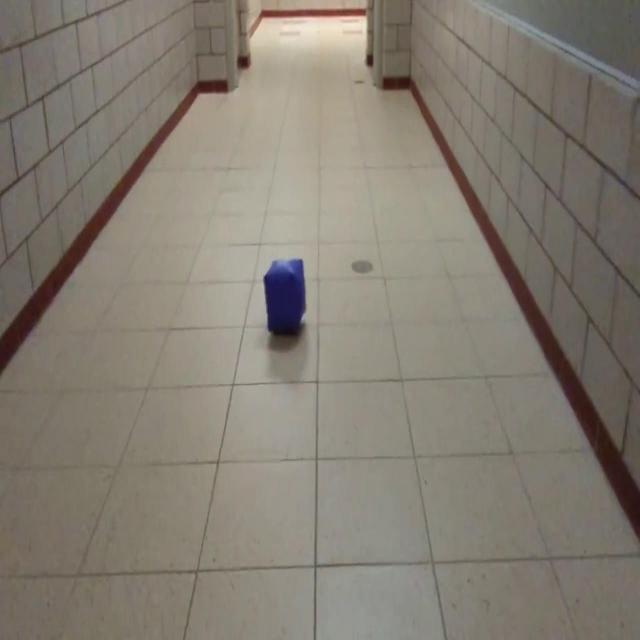frc_cube: (262, 254, 308, 340)
